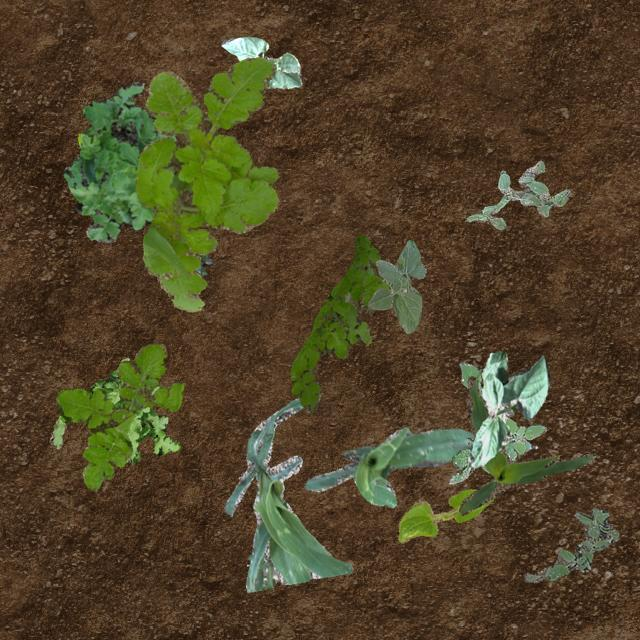crop: (222, 396, 352, 592), (458, 376, 594, 514), (304, 426, 530, 506), (466, 350, 548, 470), (366, 238, 426, 332), (397, 488, 492, 542), (220, 36, 300, 88)
weed: (134, 57, 278, 310), (54, 342, 182, 490), (62, 80, 176, 242), (288, 234, 388, 412), (49, 368, 180, 463), (448, 360, 546, 482), (464, 160, 570, 228), (524, 506, 618, 582), (193, 252, 210, 274)
